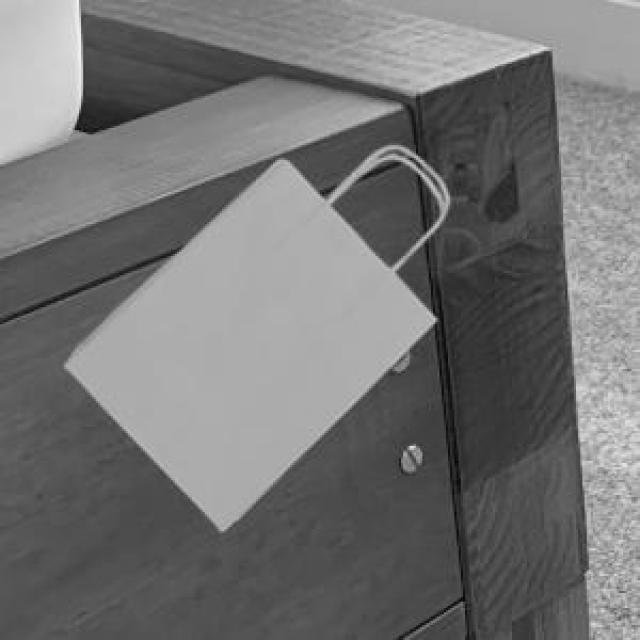paper: (60, 141, 446, 527)
